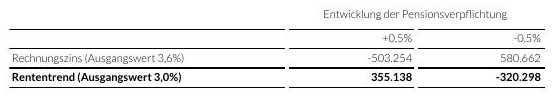table: (0, 0, 559, 98)
